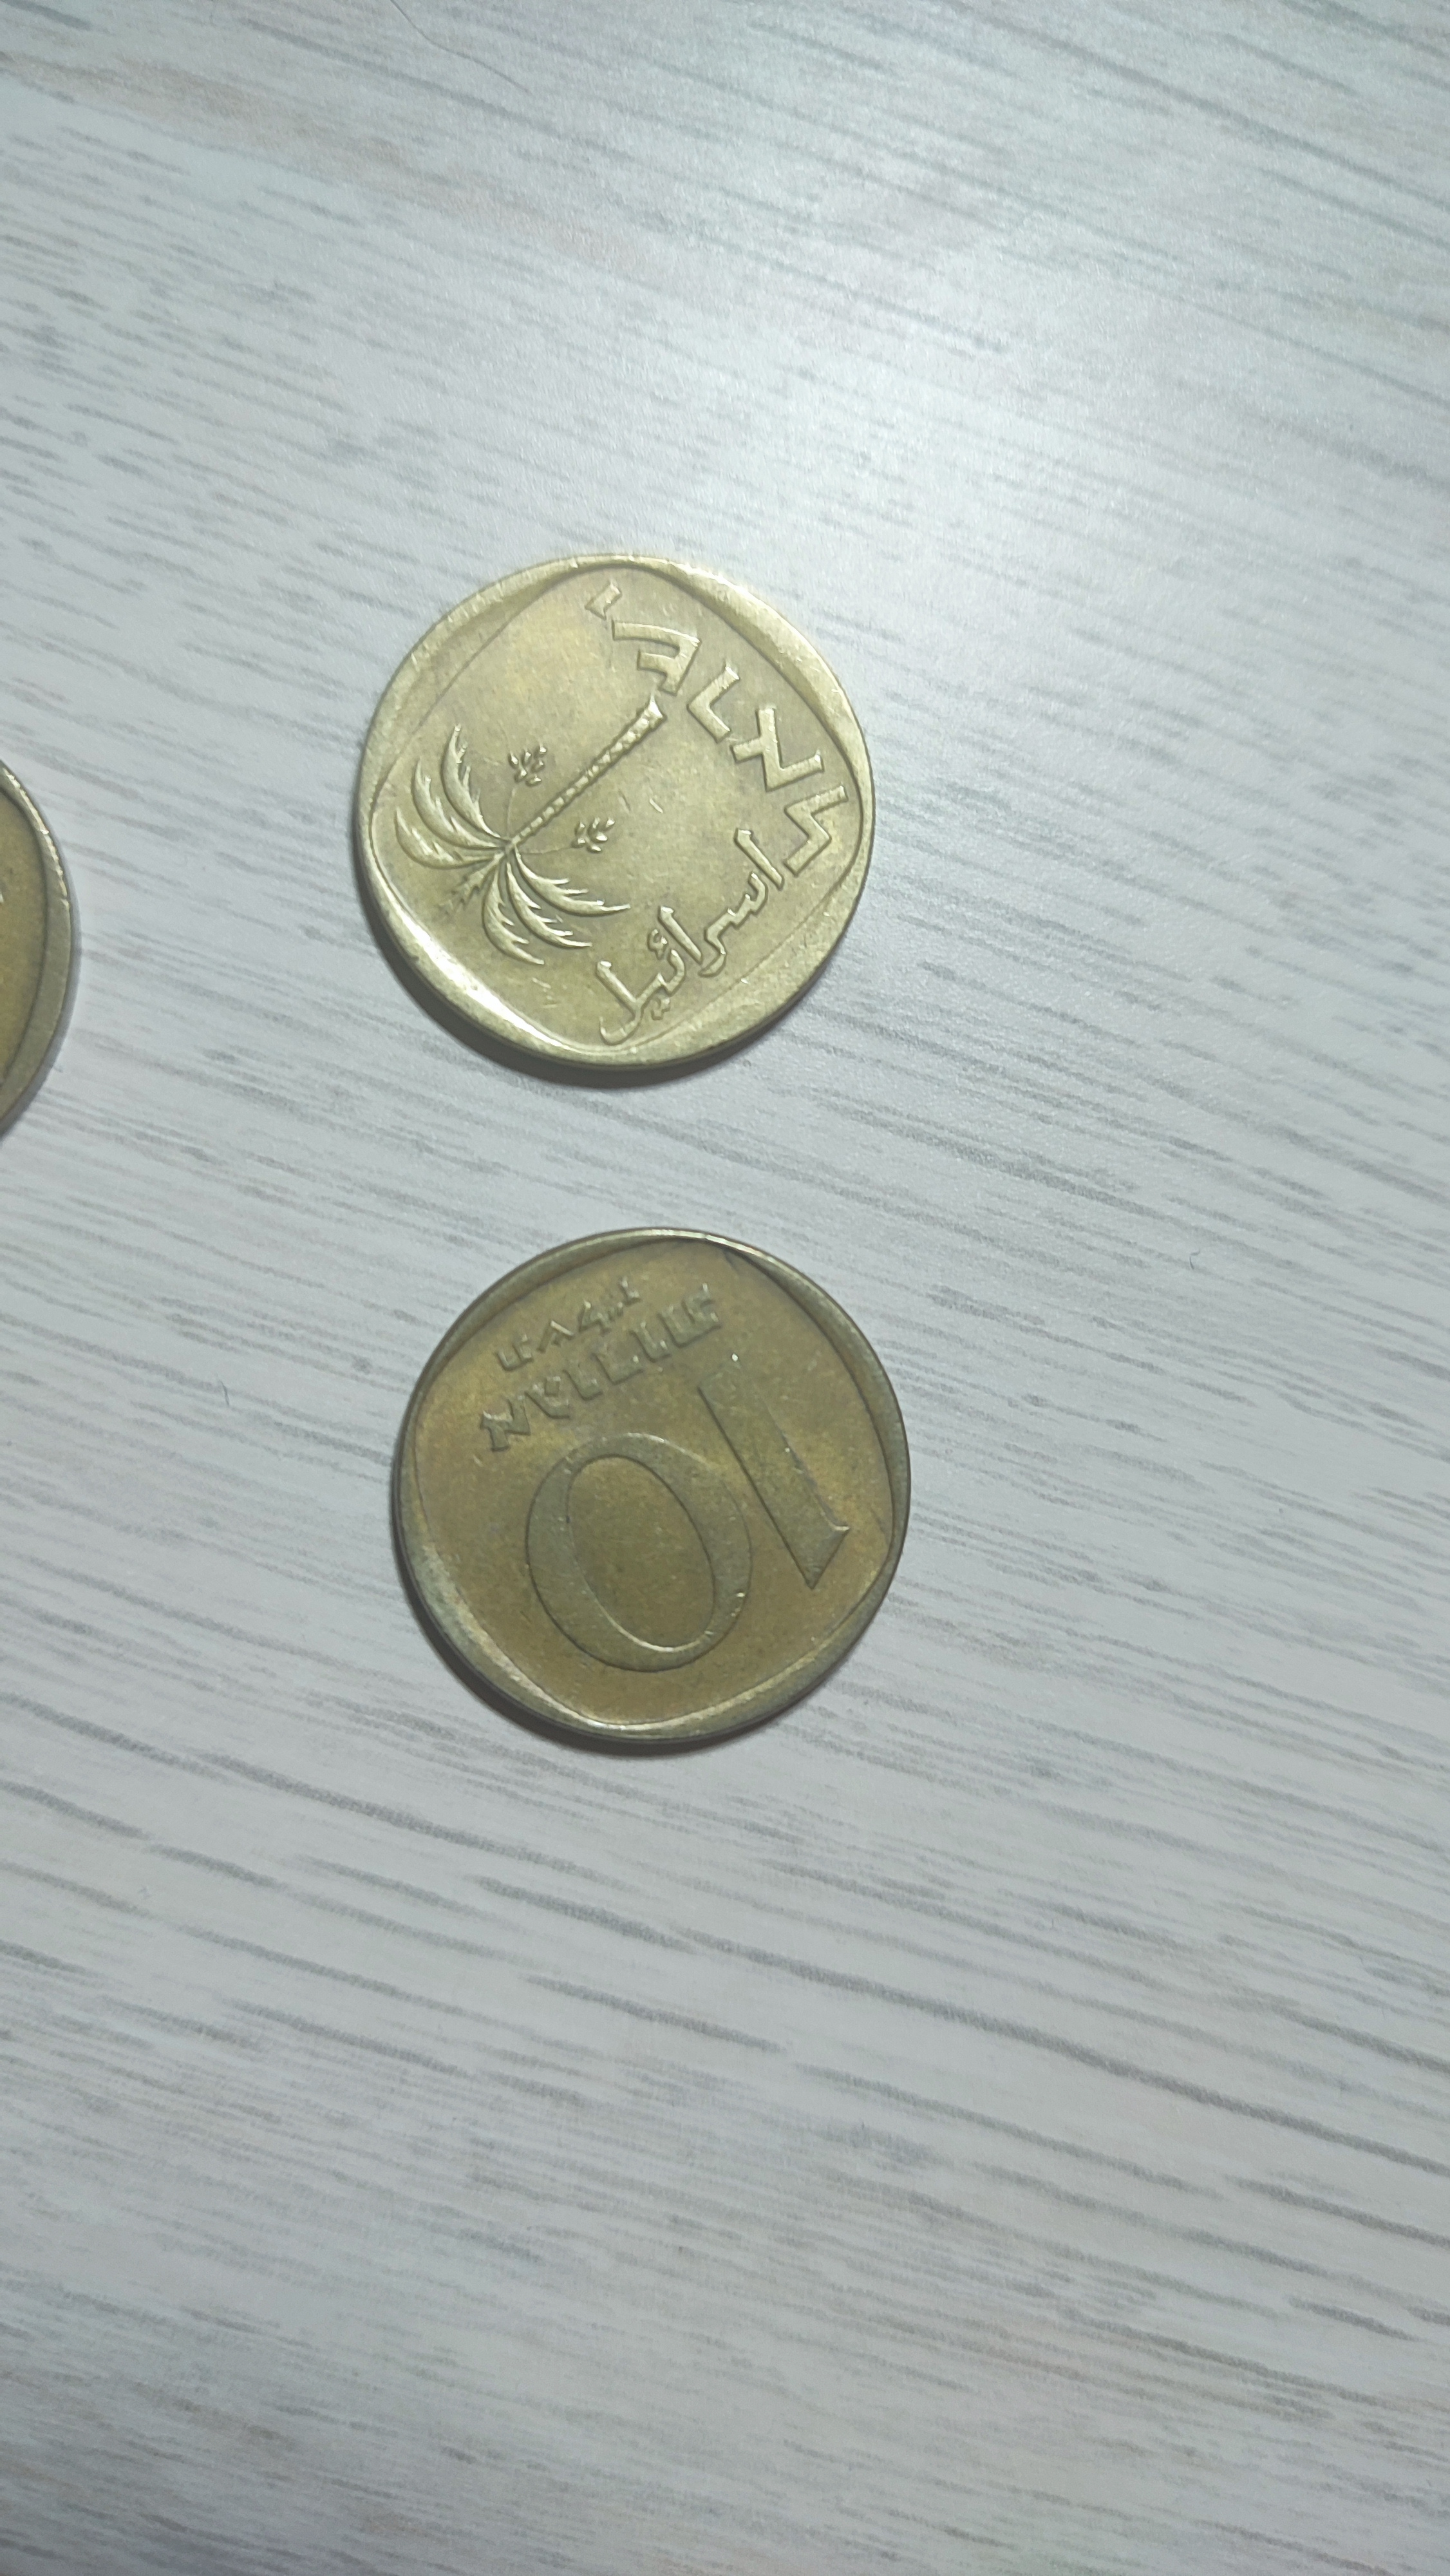10 old agora brown: (336, 540, 884, 1097), (377, 1215, 921, 1767)
